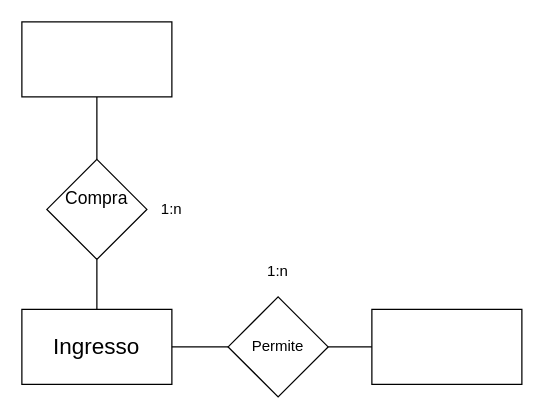
Image size: 544x419. Some labels were removed from this diagram. The shapes that lost their labels are listed below. From the top down, each one's box as (x1, y1, x2, y2) in pixels, then its label:
(21, 21, 172, 97): Cliente
(371, 308, 522, 384): Entrada
